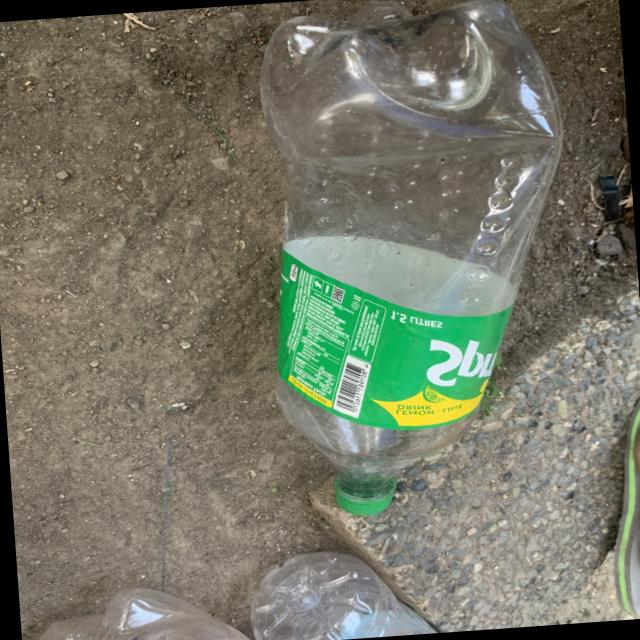Bottle: (260, 0, 561, 515)
